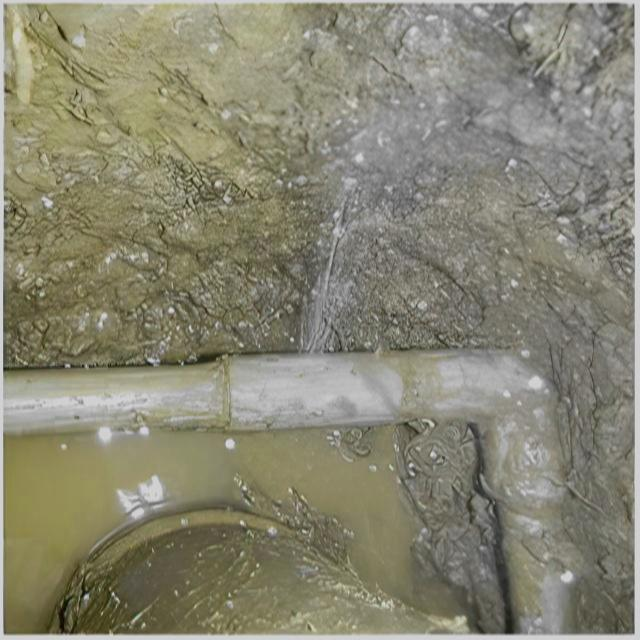pipe burst: (295, 197, 365, 357)
water accumulation: (2, 424, 429, 640)
